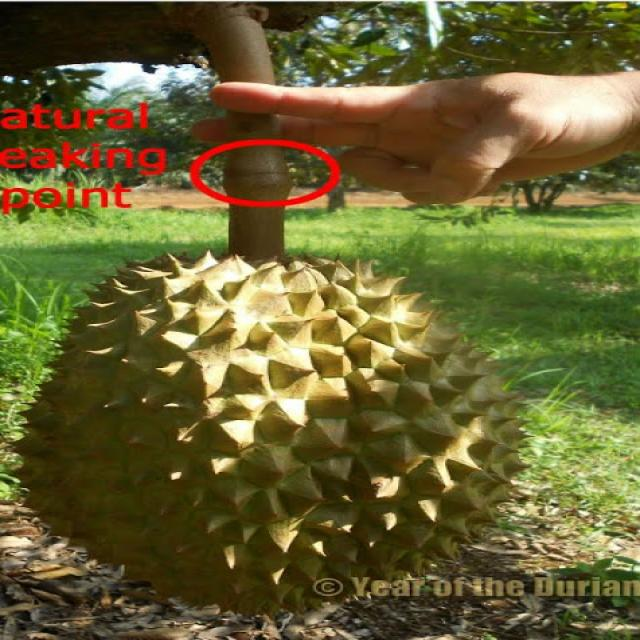mature: (15, 252, 538, 618)
